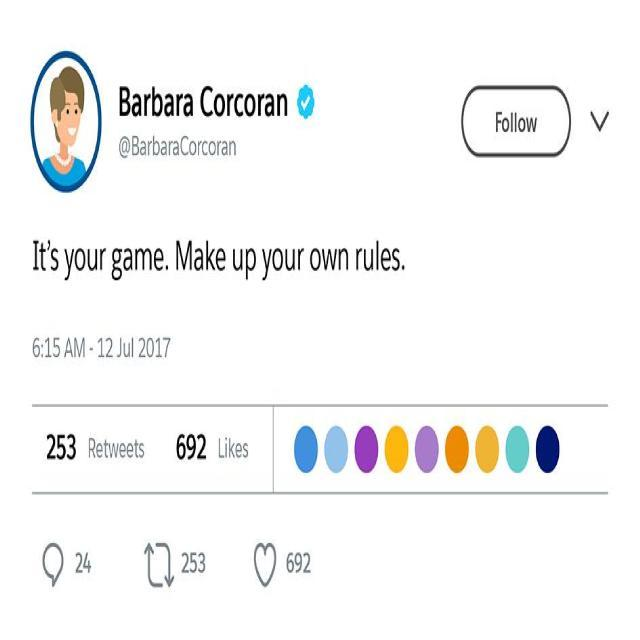0: (82, 551, 90, 574)
1: (56, 433, 66, 462), (52, 336, 61, 359), (189, 550, 197, 574)
2: (176, 432, 186, 460), (286, 551, 294, 574), (32, 336, 40, 358)
3: (163, 336, 171, 358)
5: (186, 432, 196, 462), (295, 552, 302, 574)
A: (264, 92, 276, 118), (164, 91, 174, 118), (122, 247, 132, 273), (193, 247, 203, 273), (184, 92, 194, 118), (132, 92, 142, 116), (64, 336, 73, 358), (160, 140, 168, 158), (222, 140, 228, 158), (140, 139, 146, 157), (172, 140, 178, 156)
B: (152, 85, 164, 116), (119, 86, 131, 116), (132, 134, 140, 156), (152, 136, 160, 156)
C: (200, 84, 214, 118), (234, 92, 244, 118), (179, 134, 189, 156), (201, 140, 209, 156)
E: (153, 247, 165, 272), (216, 247, 227, 272), (381, 246, 391, 271), (96, 441, 104, 460), (126, 442, 134, 459), (119, 442, 126, 459), (235, 442, 242, 459)
F: (496, 111, 502, 133)
G: (111, 247, 122, 280)
I: (33, 240, 39, 270), (225, 436, 227, 460)
J: (116, 334, 122, 359)
K: (206, 240, 216, 271), (228, 437, 234, 459)
L: (218, 436, 225, 459), (376, 240, 378, 271), (511, 112, 514, 132), (132, 336, 134, 358), (514, 111, 516, 133)
M: (176, 239, 192, 272), (134, 248, 152, 271), (74, 336, 86, 358)
N: (338, 247, 349, 272), (277, 93, 287, 116), (228, 139, 236, 159)
O: (244, 92, 256, 118), (310, 247, 322, 272), (213, 92, 224, 118), (272, 247, 283, 272), (75, 246, 86, 271), (208, 138, 216, 156), (188, 140, 196, 156), (518, 116, 526, 132), (502, 116, 509, 132)
P: (246, 248, 256, 280)
R: (88, 437, 96, 460), (176, 94, 184, 116), (356, 247, 363, 270), (227, 94, 234, 116), (100, 248, 107, 269), (144, 94, 151, 115), (298, 247, 304, 270), (258, 93, 264, 116), (216, 138, 222, 157), (197, 140, 202, 156), (168, 140, 172, 156), (148, 140, 152, 155)
S: (390, 247, 400, 272), (51, 247, 59, 273), (138, 443, 146, 458), (244, 440, 248, 460)
T: (38, 243, 46, 272), (134, 438, 140, 458), (104, 438, 108, 460)
U: (285, 248, 295, 273), (88, 248, 98, 272), (232, 248, 242, 270), (364, 248, 374, 270), (123, 341, 131, 358)
W: (321, 248, 337, 271), (109, 441, 119, 459), (526, 117, 538, 132)
Y: (63, 248, 74, 282), (261, 249, 272, 282)
